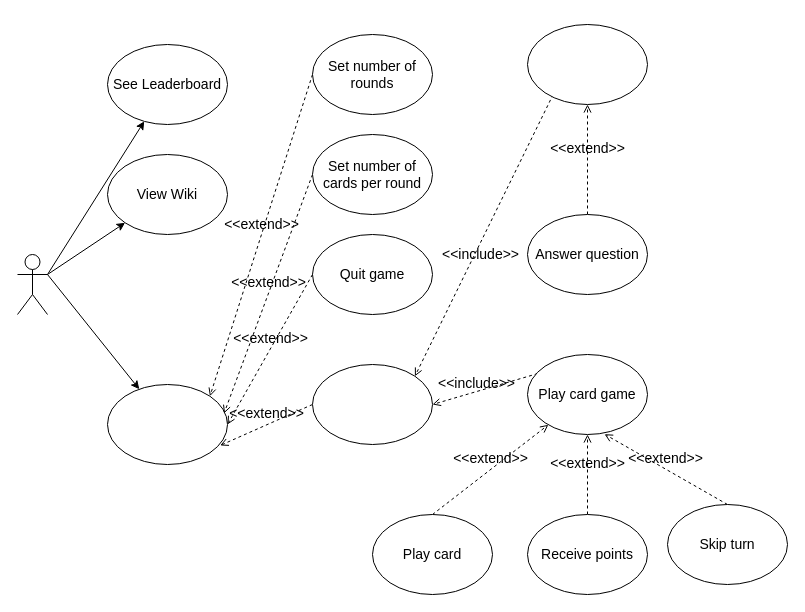
Image size: 805x612. Some labels were removed from this diagram. The centre of each missing label's shape, as x and y in pixels:
"Play current round" belongs at point 372,404.
"Play game" belongs at point 167,424.
"Play Quiz" belongs at point 587,64.
"User" belongs at point 32,284.
